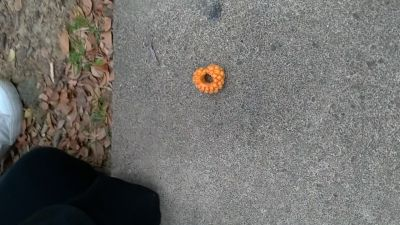eggs: (194, 63, 225, 93)
